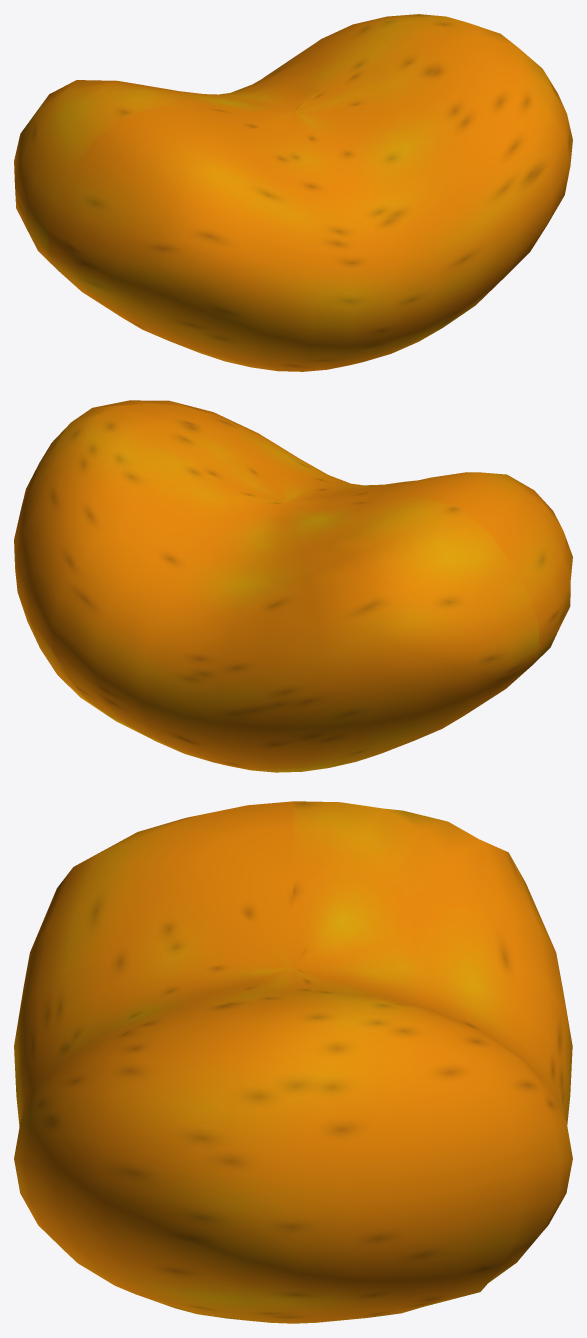
Rendered from potato.glb.
The picture shows the model from 3 angles, top to bottom: view 1: azimuth 30°, elevation 25°; view 2: azimuth 150°, elevation 25°; view 3: azimuth 270°, elevation 25°; orthographic projection. The views are drawn at different scales.
Parts seen in each view (by area): view 1: Sphere; view 2: Sphere; view 3: Sphere.
Part boxes in pixels (x1=…): Sphere: x1=14, y1=14, x2=572, y2=371; Sphere: x1=14, y1=400, x2=572, y2=772; Sphere: x1=14, y1=801, x2=572, y2=1323.
Bounding box in the file's own units: 0.6233 × 0.3344 × 0.4413.
Materials: 1 (1 with a texture image).
